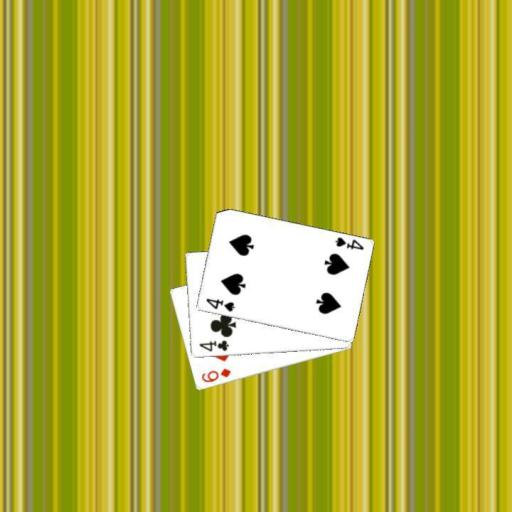card-corner: (198, 366, 232, 384), (331, 234, 365, 252), (203, 296, 236, 314), (196, 337, 230, 353)
